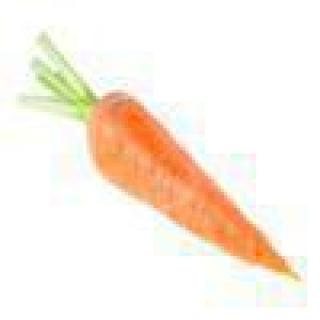Wortel: (11, 30, 299, 299)
